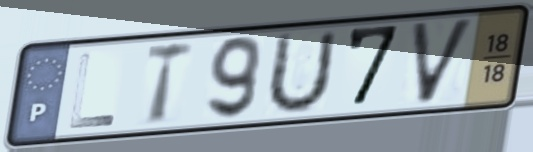7: (345, 23, 402, 113)
9: (203, 34, 266, 123)
L: (66, 50, 118, 132)
T: (142, 38, 197, 129)
U: (261, 26, 341, 119)
V: (407, 15, 479, 109)
